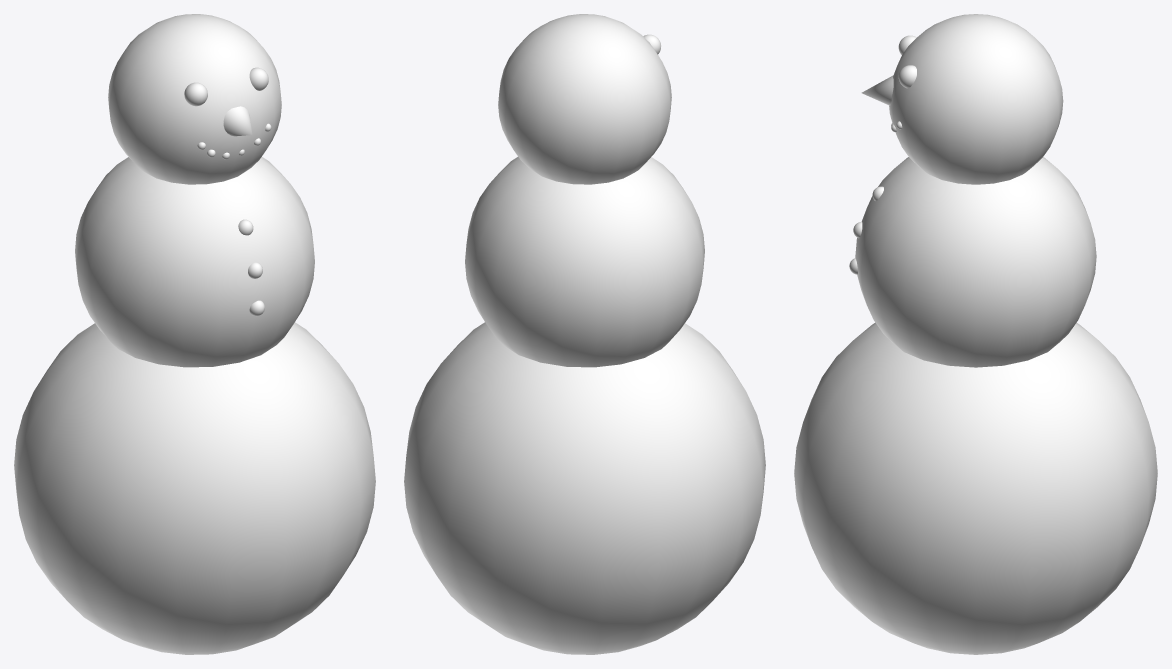
Rendered from snowman.obj.
The picture shows the model from 3 angles, left to right: view 1: azimuth 30°, elevation 25°; view 2: azimuth 150°, elevation 25°; view 3: azimuth 270°, elevation 25°; orthographic projection.
Visible parts, largest first — view 1: pSphere15; view 2: pSphere15; view 3: pSphere15.
Part boxes in pixels (left/top/right/bottom): pSphere15: left=14, top=14, right=375, bottom=654; pSphere15: left=404, top=14, right=765, bottom=654; pSphere15: left=794, top=14, right=1157, bottom=654.
Bounding box in the file's own units: 0.9825 × 1.84 × 0.9825.
